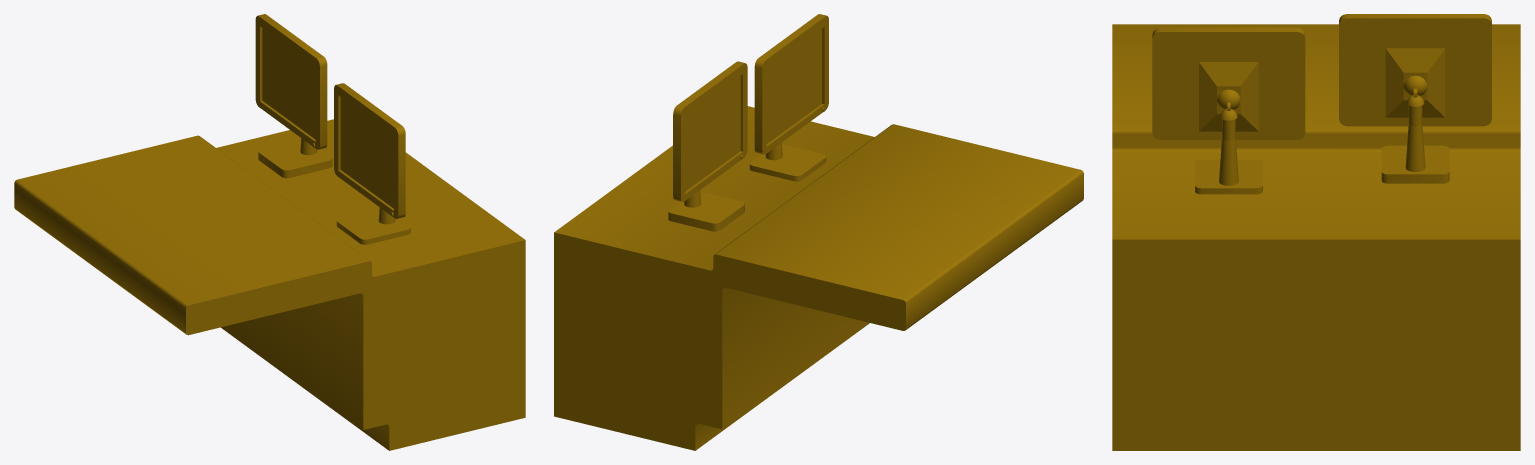
Rendered from 俩电桌面.fbx.
The picture shows the model from 3 angles, left to right: view 1: azimuth 30°, elevation 25°; view 2: azimuth 150°, elevation 25°; view 3: azimuth 270°, elevation 25°; orthographic projection. The views are drawn at different scales.
Parts seen in each view (by area): view 1: ELCONN_4_of_EQUIPMENT__6IVM001PP, ELCONN_2_of_EQUIPMENT__6IVM001PP, ELCONN_3_of_EQUIPMENT__6IVM001PP; view 2: ELCONN_4_of_EQUIPMENT__6IVM001PP, ELCONN_2_of_EQUIPMENT__6IVM001PP, ELCONN_3_of_EQUIPMENT__6IVM001PP; view 3: ELCONN_4_of_EQUIPMENT__6IVM001PP, ELCONN_2_of_EQUIPMENT__6IVM001PP, ELCONN_3_of_EQUIPMENT__6IVM001PP.
Part boxes in pixels (x1,y1,x2,y2): ELCONN_4_of_EQUIPMENT__6IVM001PP: (14, 119, 525, 450); ELCONN_2_of_EQUIPMENT__6IVM001PP: (255, 14, 332, 178); ELCONN_3_of_EQUIPMENT__6IVM001PP: (334, 83, 410, 244); ELCONN_4_of_EQUIPMENT__6IVM001PP: (554, 106, 1083, 450); ELCONN_2_of_EQUIPMENT__6IVM001PP: (668, 61, 747, 231); ELCONN_3_of_EQUIPMENT__6IVM001PP: (749, 14, 828, 181); ELCONN_4_of_EQUIPMENT__6IVM001PP: (1112, 24, 1520, 450); ELCONN_2_of_EQUIPMENT__6IVM001PP: (1339, 14, 1491, 183); ELCONN_3_of_EQUIPMENT__6IVM001PP: (1152, 27, 1305, 194).
Size of the model in its own units: 137 by 121 by 120.
